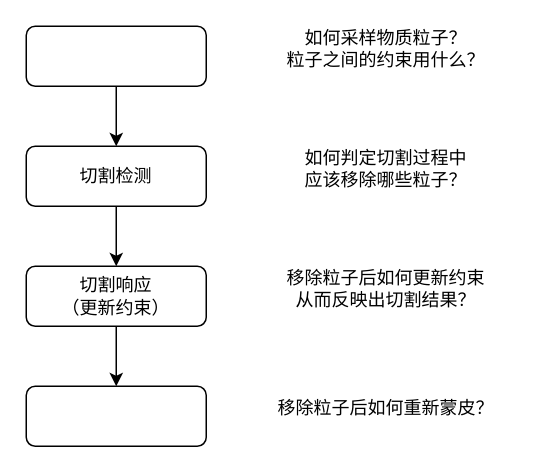
This 533x473 diagram has some shape labels left out. The shapes that lost their labels are listed below. From the top down, each one's box as (x1, y1, x2, y2) in pixels, then its label:
(25, 25, 206, 86): 柔体建模
(25, 385, 206, 446): 蒙皮
